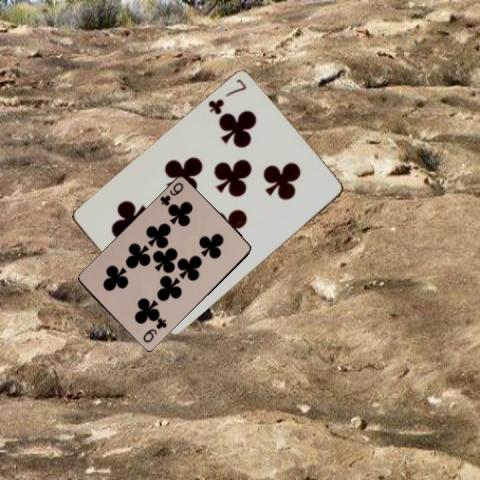7c: (205, 76, 248, 117)
9c: (157, 179, 185, 208), (140, 317, 168, 344)
